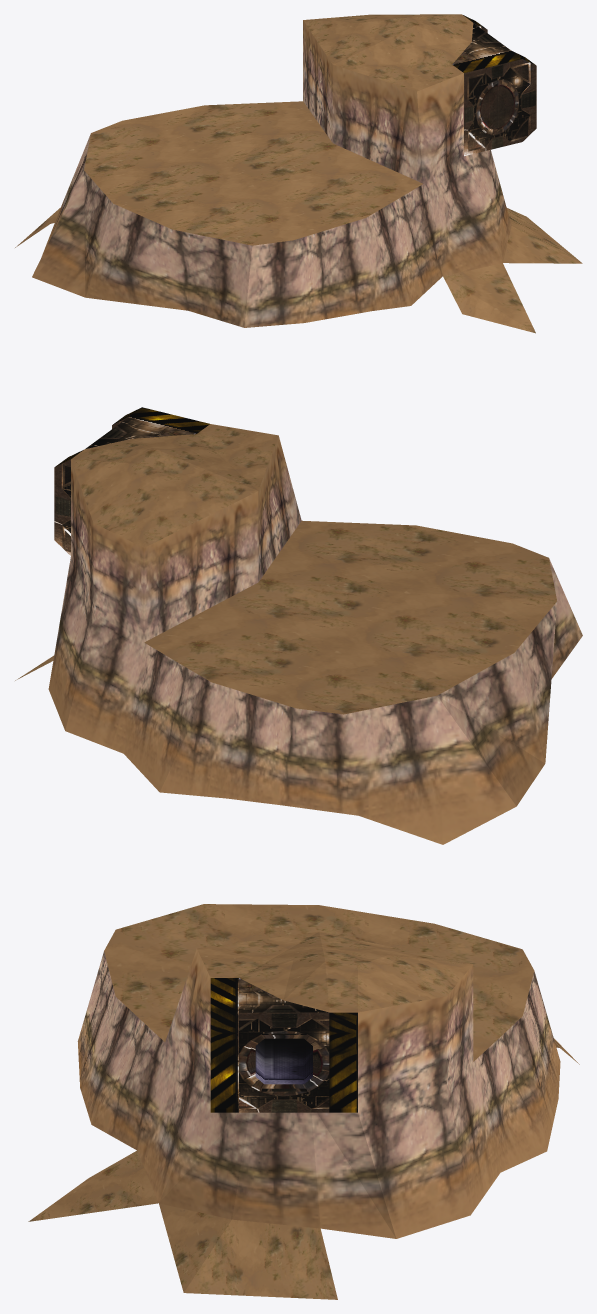
3 renders of one model, top to bottom at view 1: azimuth 30°, elevation 25°; view 2: azimuth 150°, elevation 25°; view 3: azimuth 270°, elevation 25°, orthographic. The views are drawn at different scales.
Visible parts, largest first — view 1: Object18; view 2: Object18; view 3: Object18.
Boxes of the visible parts, box(x1,y1,x2,y2) form: Object18: box(15, 14, 582, 333); Object18: box(15, 407, 582, 844); Object18: box(28, 904, 579, 1299).
Bounding box in the file's own units: 6698 × 3090 × 5909.
5 materials, 5 textured.
